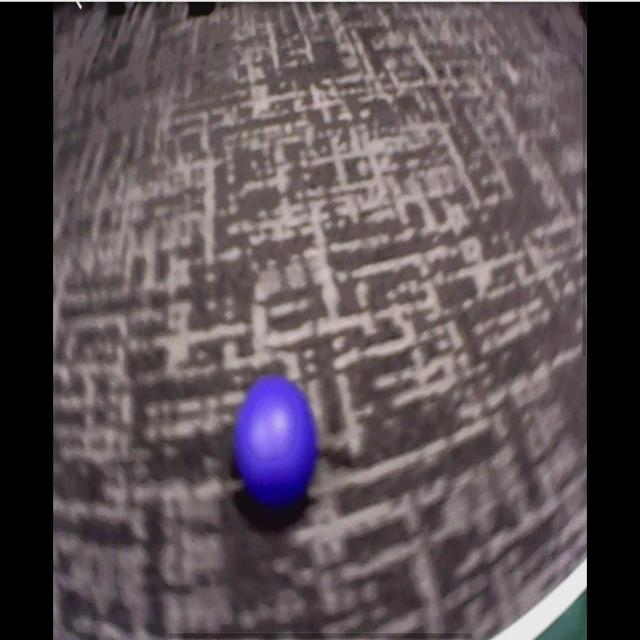ball: (239, 372, 316, 506)
